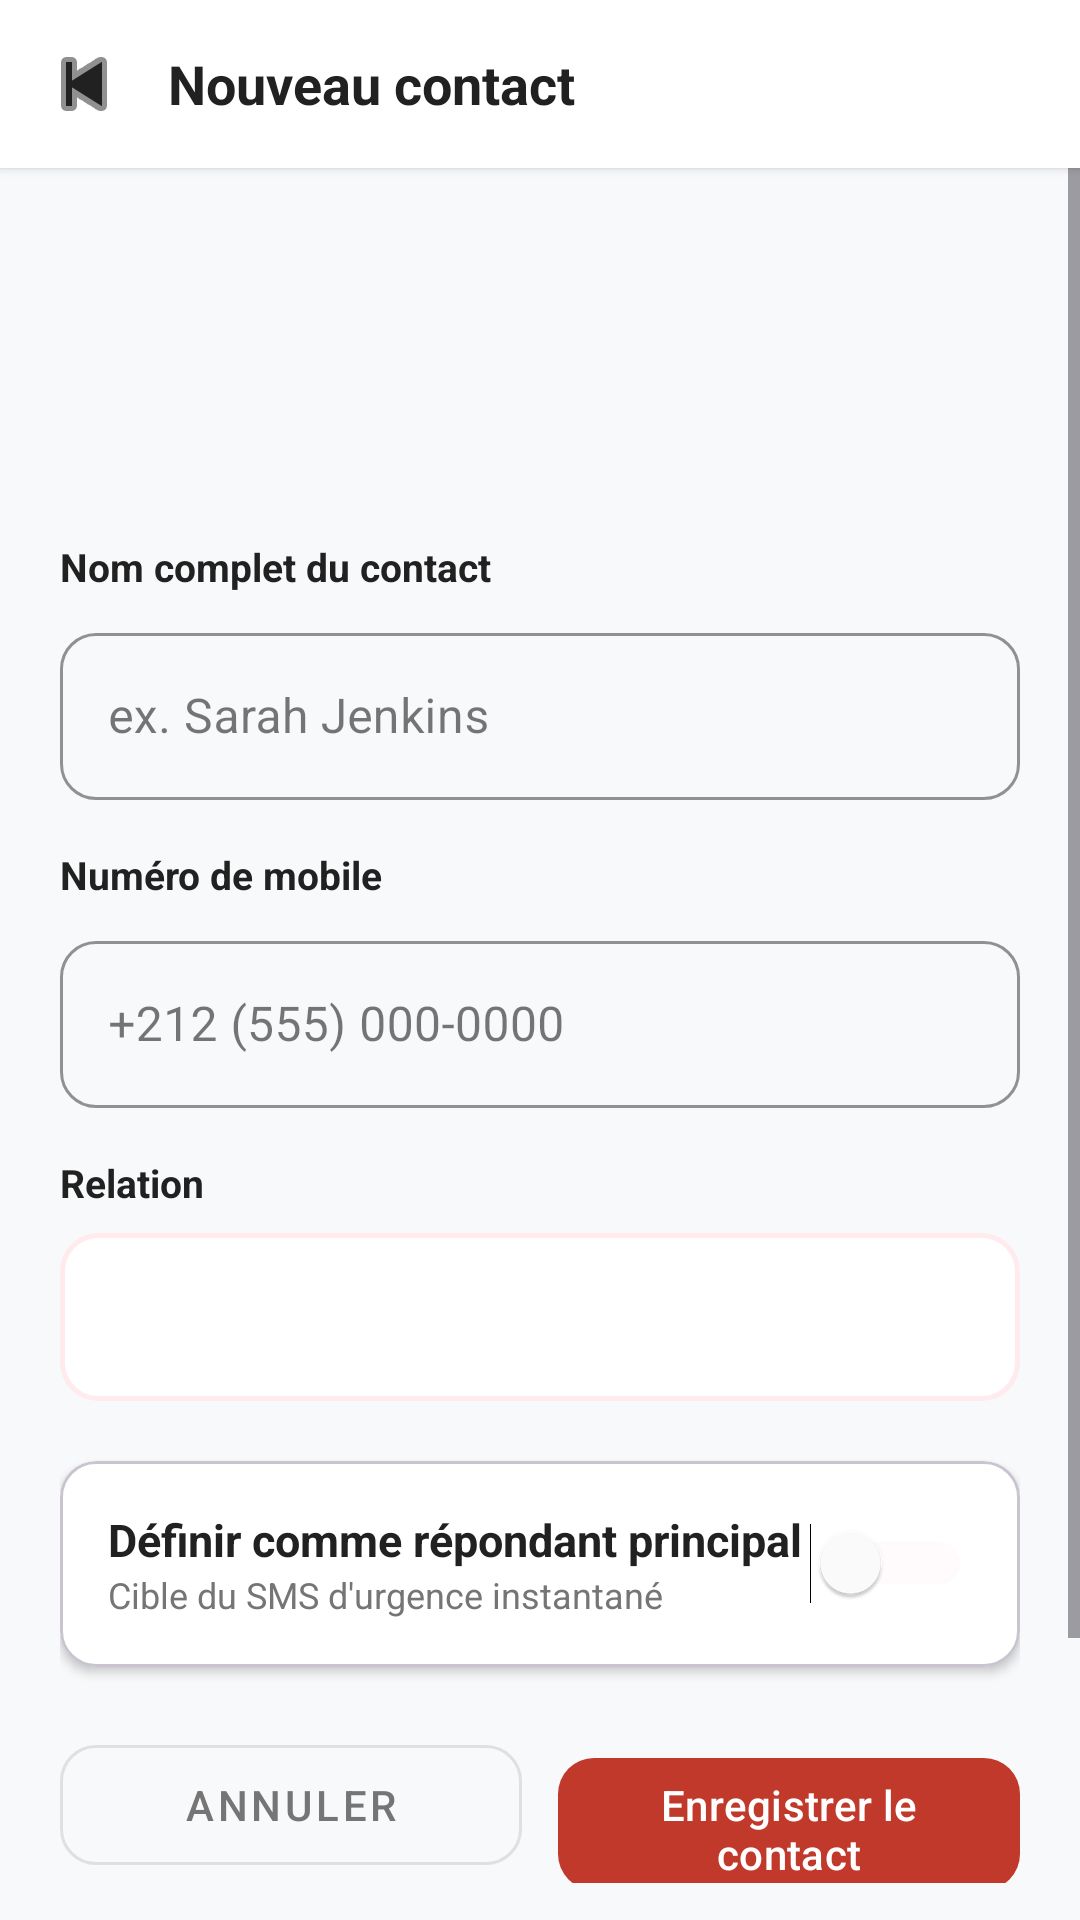

Named icons in this screenshot (1080px×1920px) and their bounding boxes, (x1, y1, x2, y2):
Retour: (61, 57, 107, 111)
